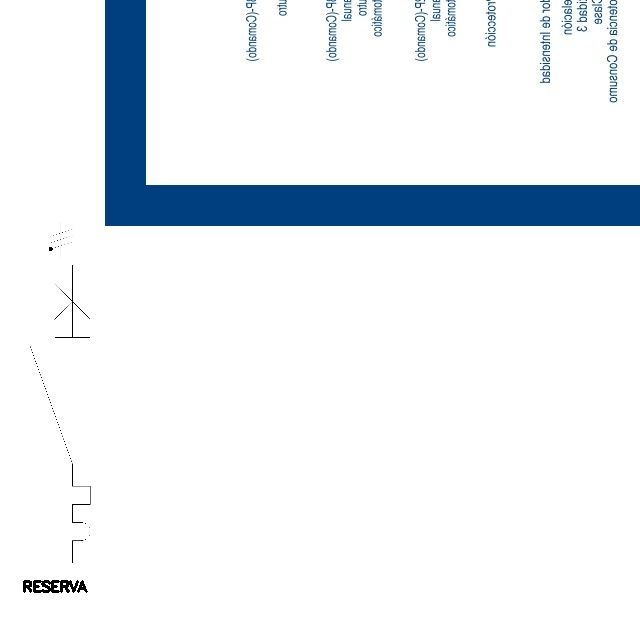interruptor_termomagnetico: (22, 257, 98, 570)
